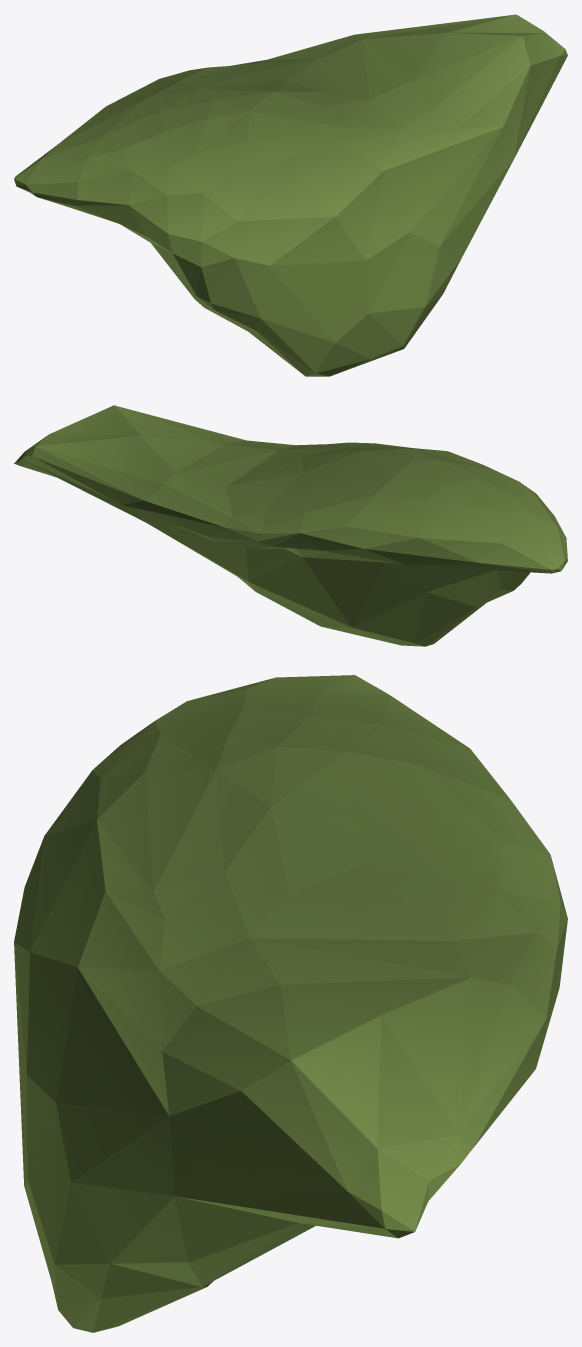
File: Jungle_BushTopper_C.fbx
3 renders of one model, top to bottom at view 1: azimuth 30°, elevation 25°; view 2: azimuth 150°, elevation 25°; view 3: azimuth 270°, elevation 25°, orthographic. The views are drawn at different scales.
Parts seen in each view (by area): view 1: Jungle_BushTopper_C; view 2: Jungle_BushTopper_C; view 3: Jungle_BushTopper_C.
Boxes of the visible parts, x1,y1,x2,y2 form: Jungle_BushTopper_C: (14,14,567,376); Jungle_BushTopper_C: (14,405,567,646); Jungle_BushTopper_C: (14,675,567,1332).
Bounding box in the file's own units: 6.57 × 2.77 × 2.97.
1 material, 1 textured.
